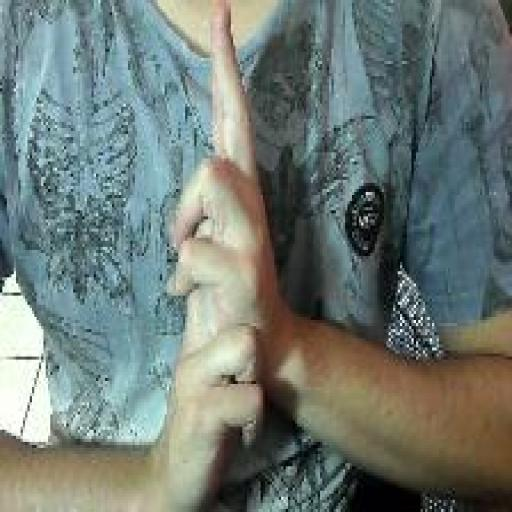Hitsuji -ram-: (166, 2, 273, 510)
